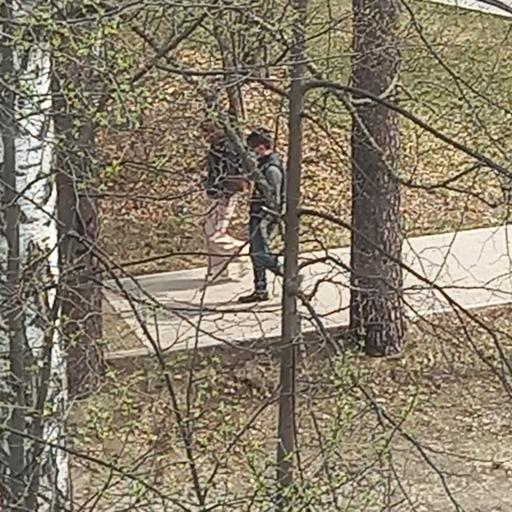Humans: (192, 108, 254, 286), (252, 129, 298, 302)
